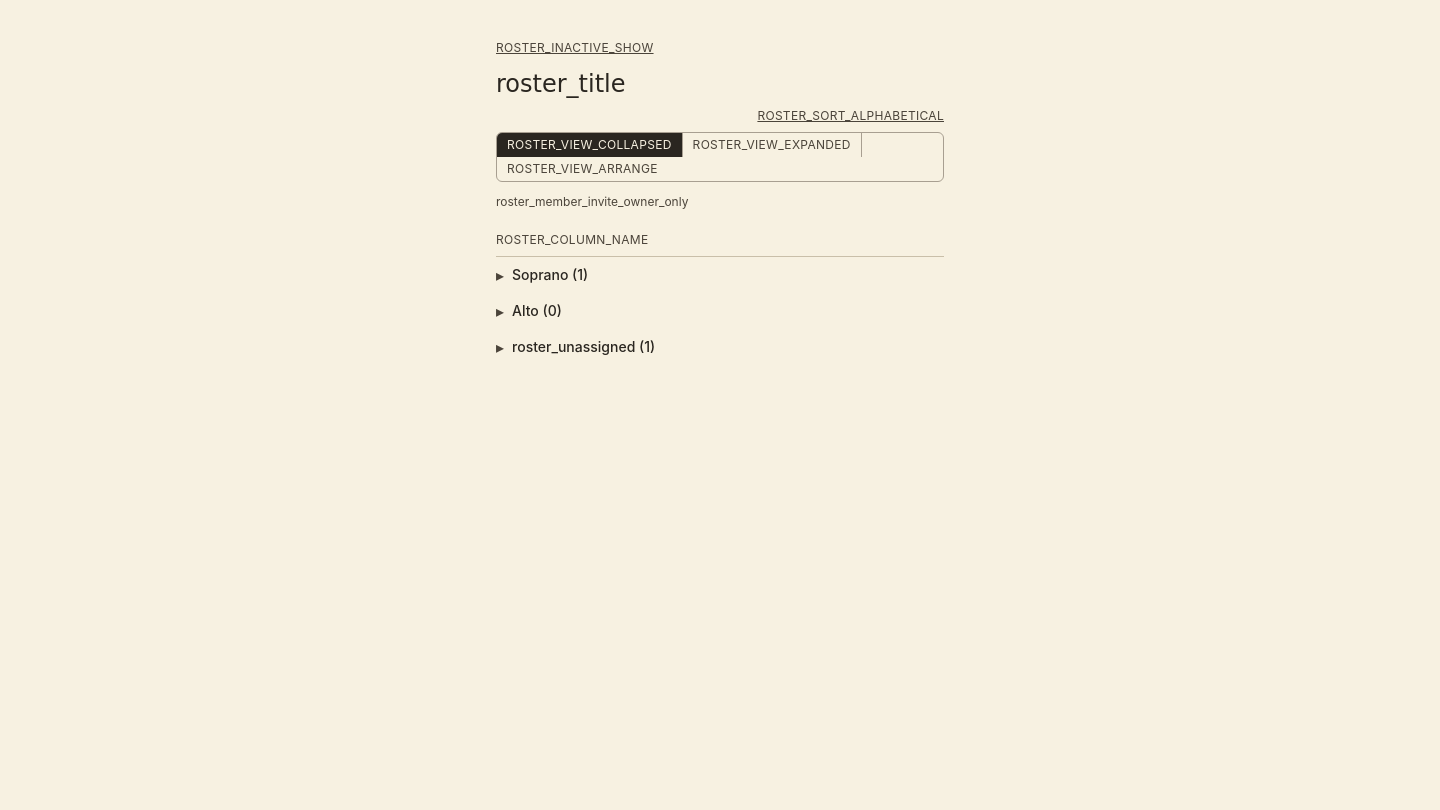
Test: /roster — the page-level create threads the VIEWER'S org id into createSection (finding #10, re-driven per #470) › a TOP-LEVEL duplicate of the viewer's OWN root ('Alto') is still refused — no write, error shown
Expected: the element with test id "roster-groups" is shown, x1=496 y1=257 x2=944 y2=365
Click the button "roster_view_arrange".
click(582, 169)  # box x1=497 y1=157 x2=668 y2=181
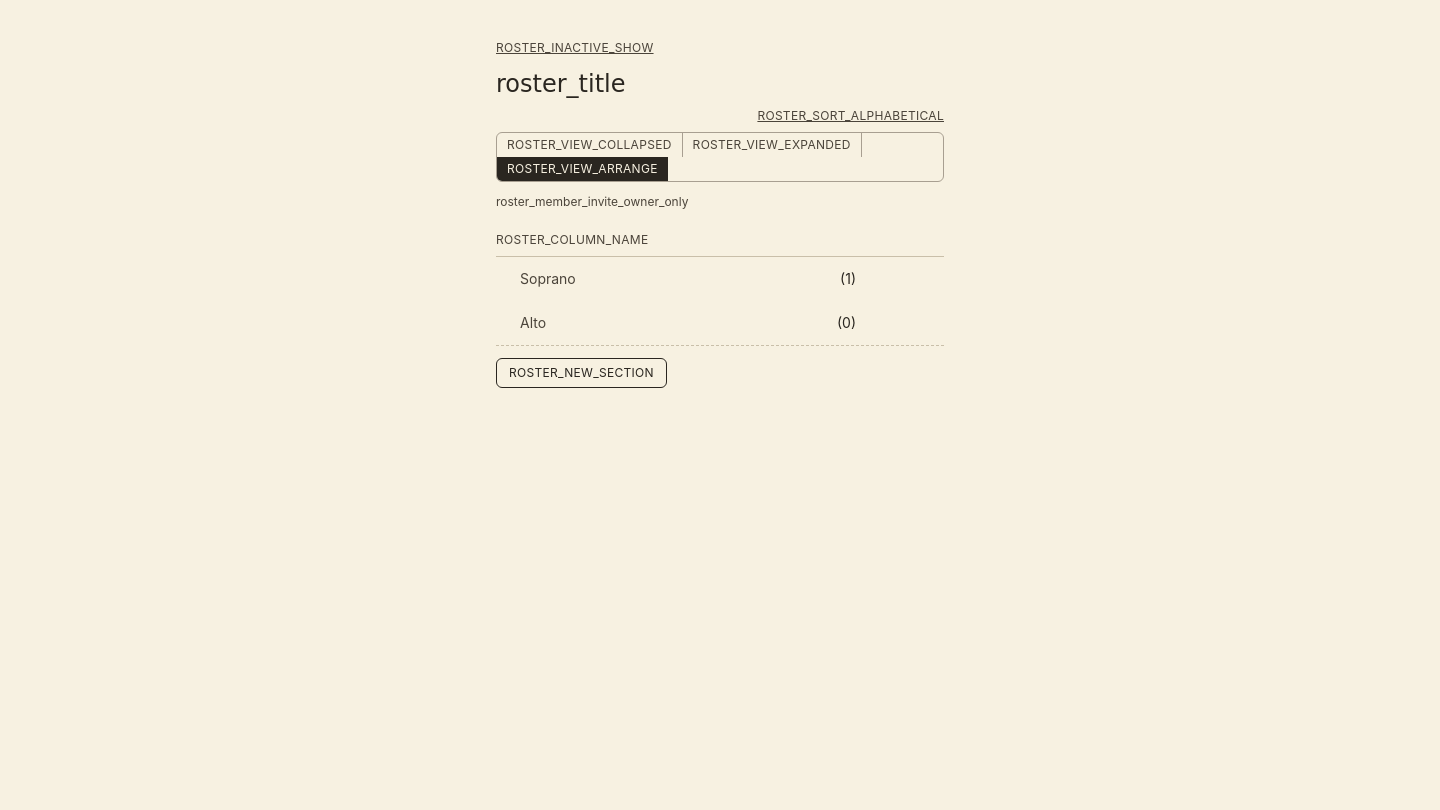
Click the button "roster_new_section".
click(581, 373)  # box x1=496 y1=358 x2=667 y2=388
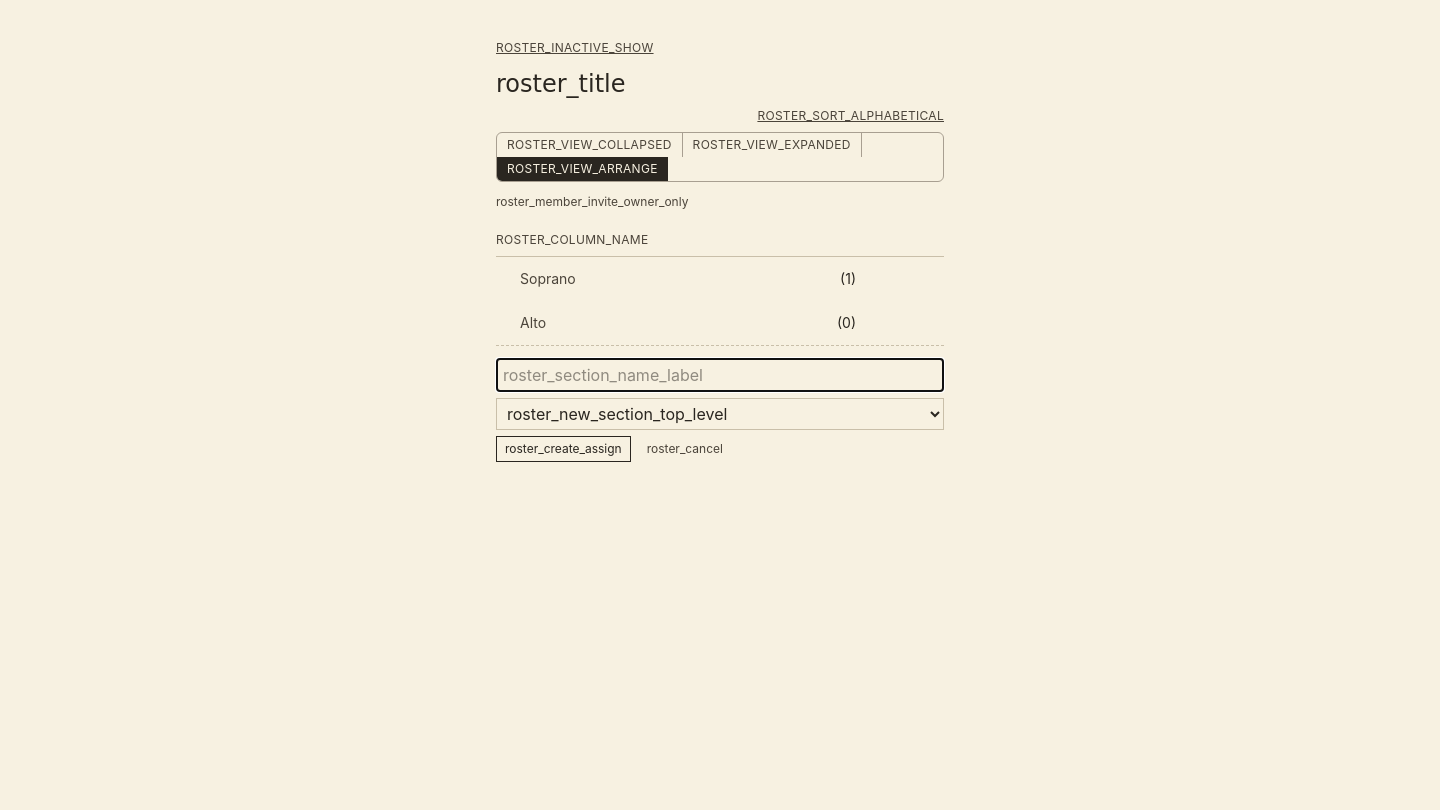
Type "Alto" into the field with placeholder "roster_section_name_label".
click(720, 375); type("Alto")  # box x1=496 y1=358 x2=944 y2=392
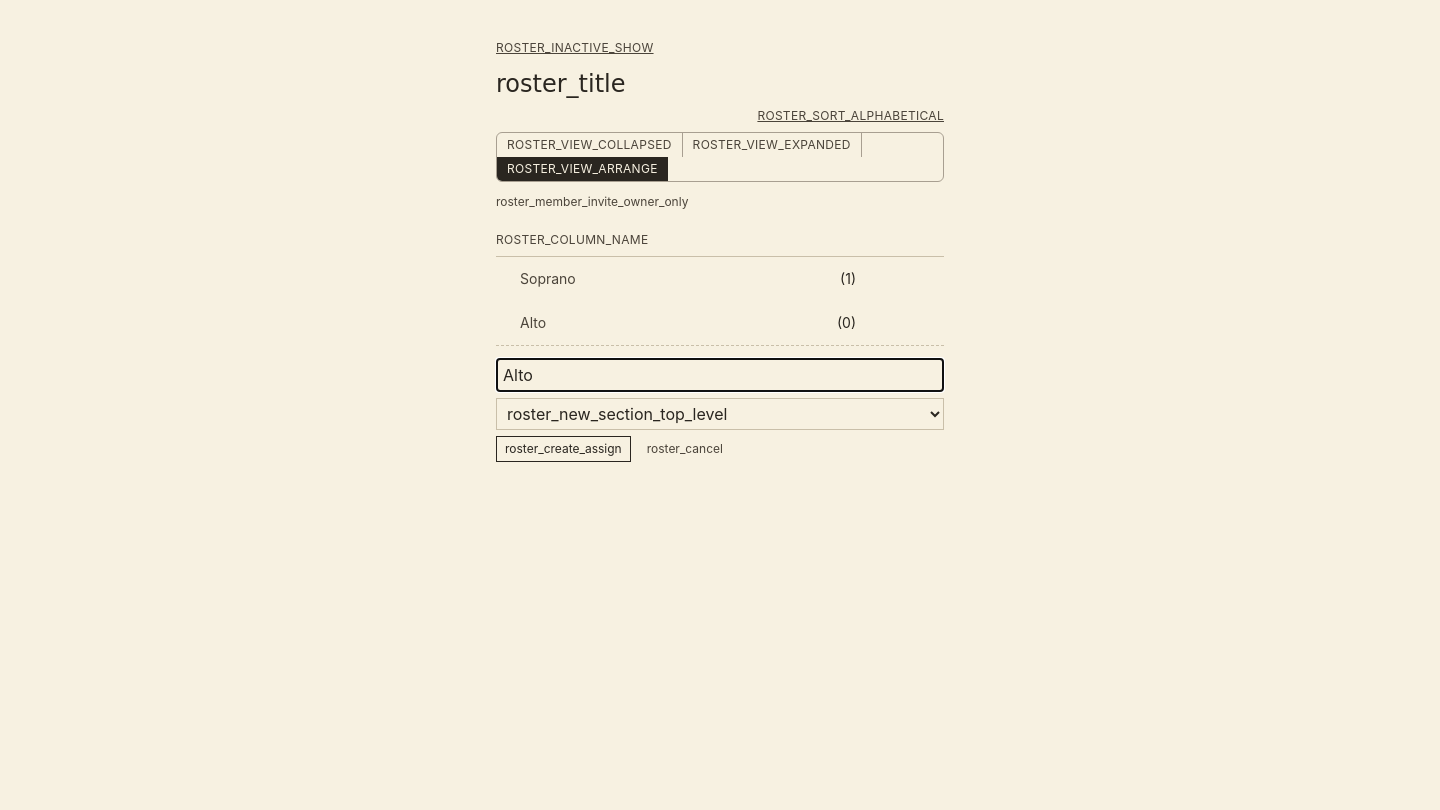
Click the button "roster_create_assign".
click(563, 449)  # box x1=496 y1=436 x2=631 y2=462
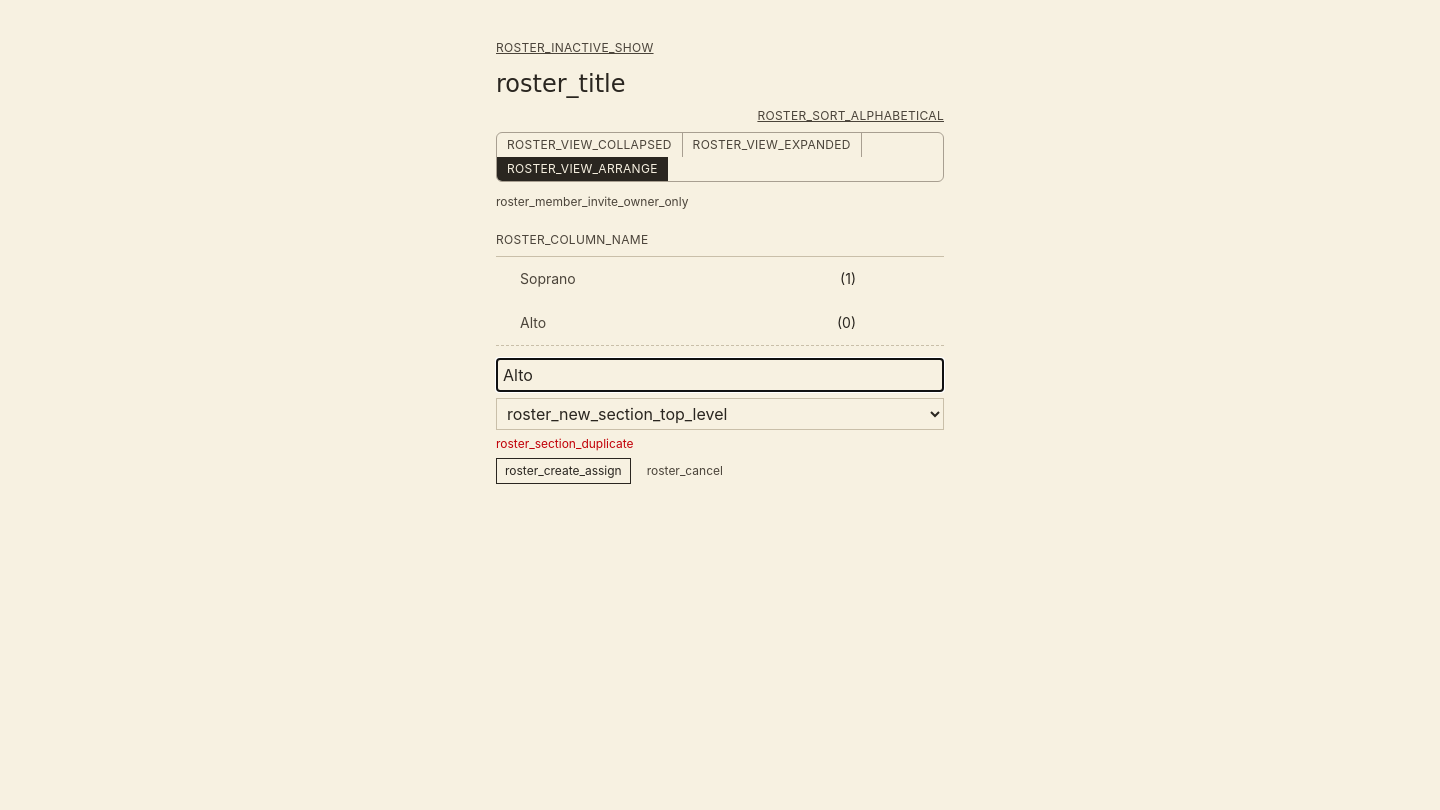
Expected: the message "roster_section_duplicate" is shown, x1=496 y1=436 x2=634 y2=451
